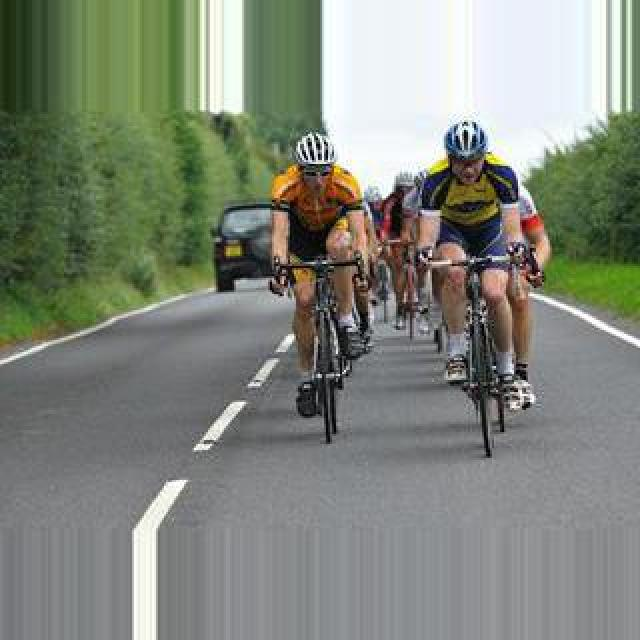Bus-Bike: (212, 202, 274, 292)
MC-Bike: (402, 110, 546, 404), (266, 132, 378, 382)
Person: (440, 244, 528, 458), (284, 252, 372, 442), (392, 244, 432, 334), (372, 240, 404, 326)
